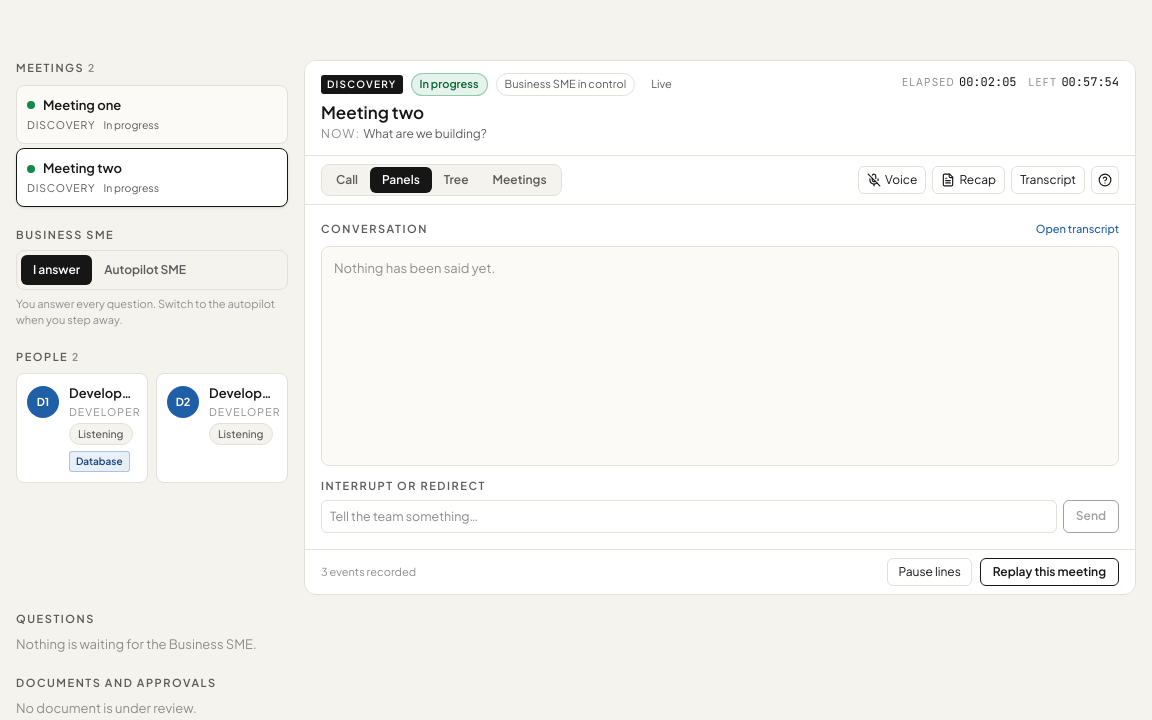
it: who is in the meeting › shows the same developer with another skill in another meeting
The image size is (1152, 720).
Click the button "Meeting one Discovery In progress" at (82, 104), box [16,84,288,144]
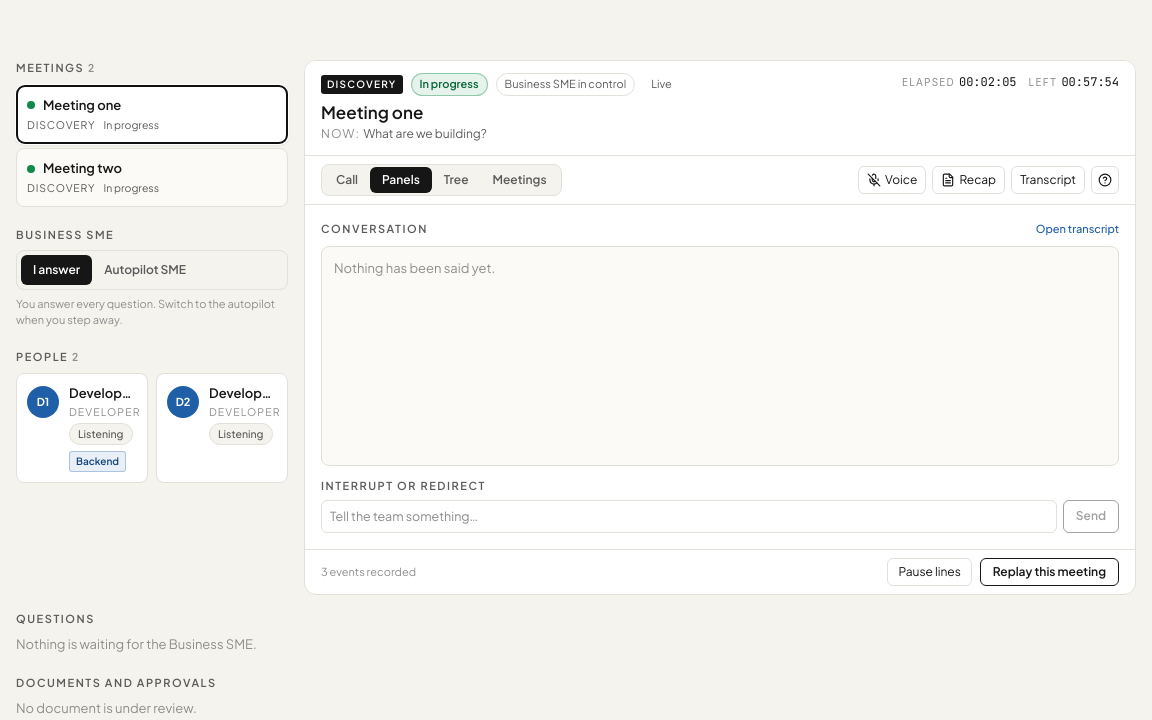
Result: the text with test id "skill-badge" reads "Backend" at [76,455,119,467]
Click the button "Meeting two Discovery In progress" at (82, 168), box [16,148,288,207]
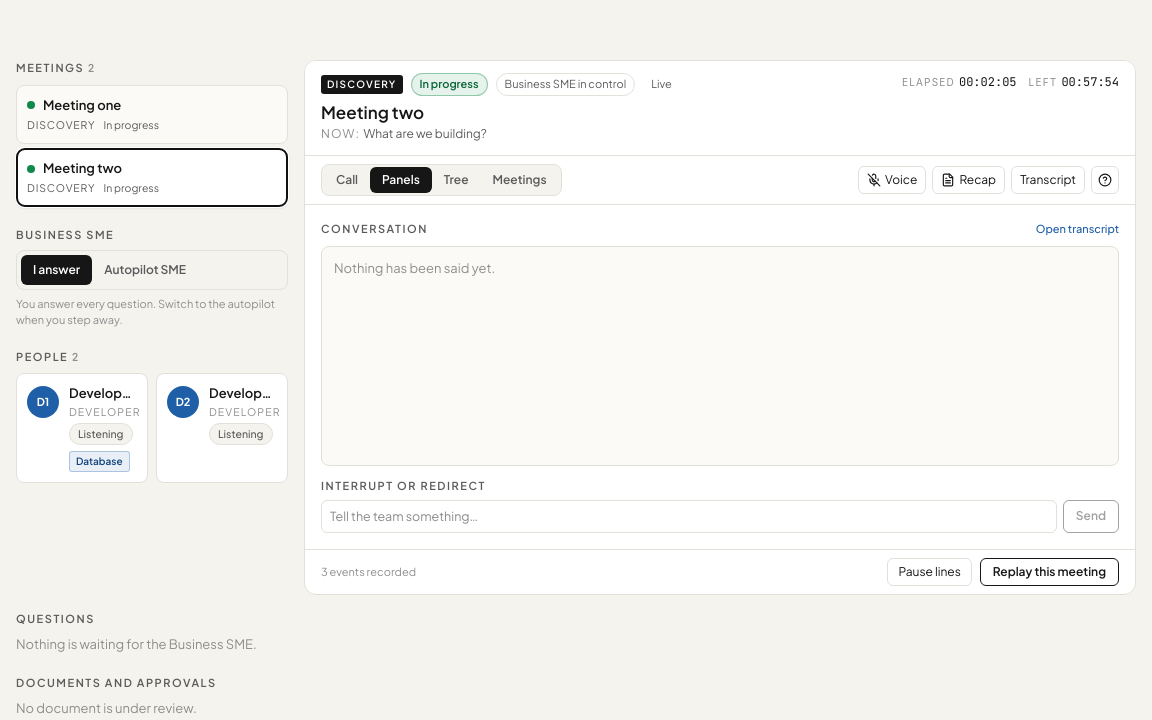
Result: the text with test id "skill-badge" reads "Database" at [76,455,123,467]
